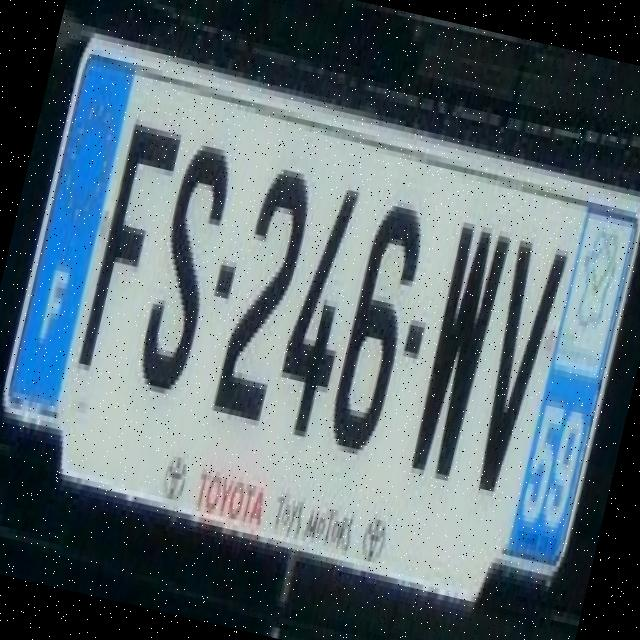EU: (7, 40, 640, 569), (0, 60, 136, 417)
France: (5, 49, 139, 424)
